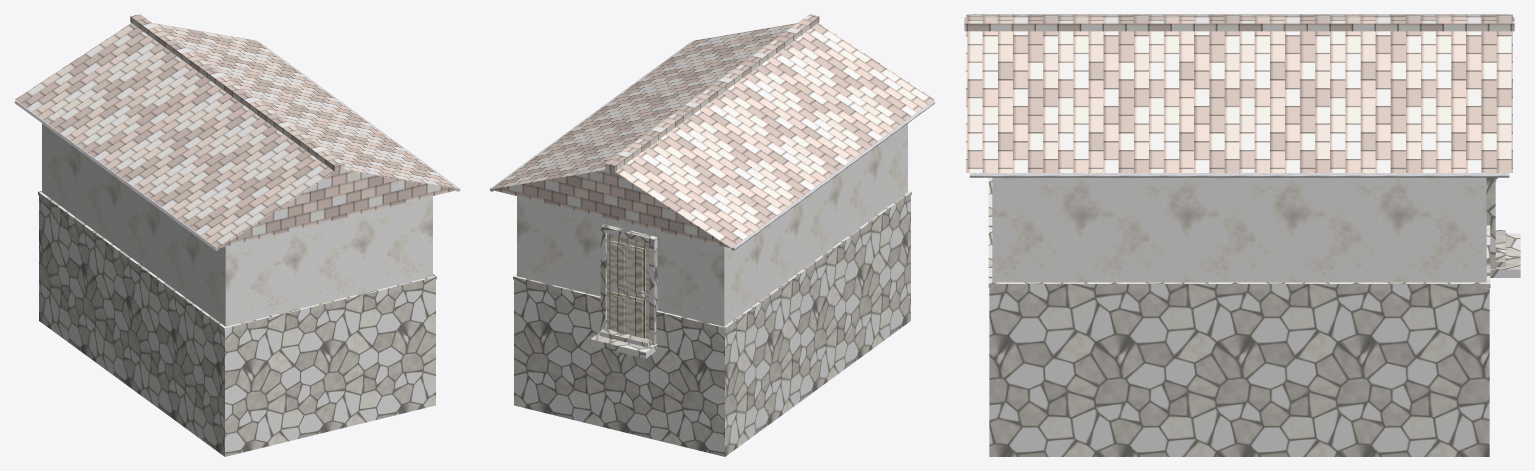
3 views of the same model, side by side, from view 1: azimuth 30°, elevation 25°; view 2: azimuth 150°, elevation 25°; view 3: azimuth 270°, elevation 25° (orthographic). The views are drawn at different scales.
Parts seen in each view (by area): view 1: b1088806800; view 2: b1088806800; view 3: b1088806800.
Boxes of the visible parts, <box> form: b1088806800: <box>14,14,460,456</box>; b1088806800: <box>489,14,935,456</box>; b1088806800: <box>964,14,1520,456</box>.
Size of the model in its own units: 5.04 by 5.36 by 7.36.
11 materials, 11 textured.
